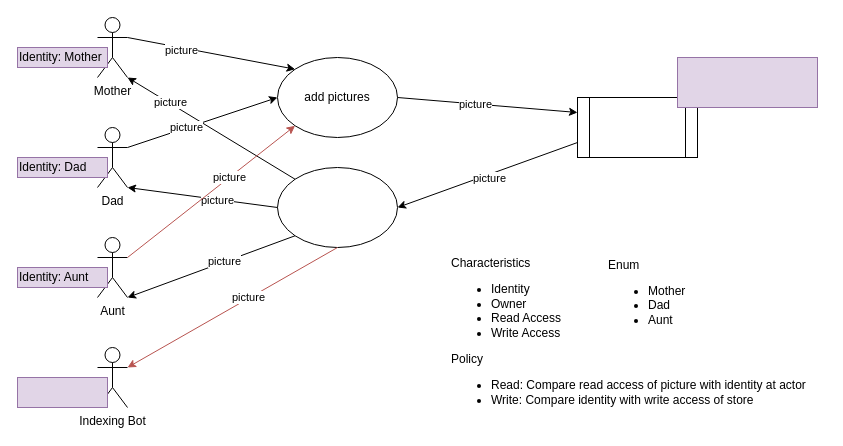
Image size: 843x446. Some labels were removed from this diagram. Each missing label, with the centre of its shape:
Famility Pictures: (x=637, y=127)
Identity: Indexing Bot: (x=62, y=392)
Owner: Mother Read: Mother, Dad, Aunt Write: Mother, Dad: (x=747, y=82)
read pictures: (x=337, y=207)
